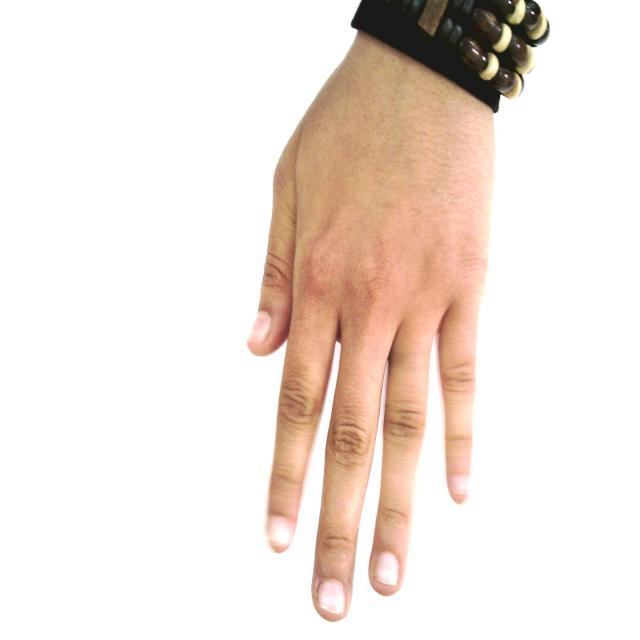Fingernail: (318, 580, 345, 614), (375, 553, 398, 585), (248, 311, 270, 343), (269, 517, 291, 546), (451, 476, 467, 499)
